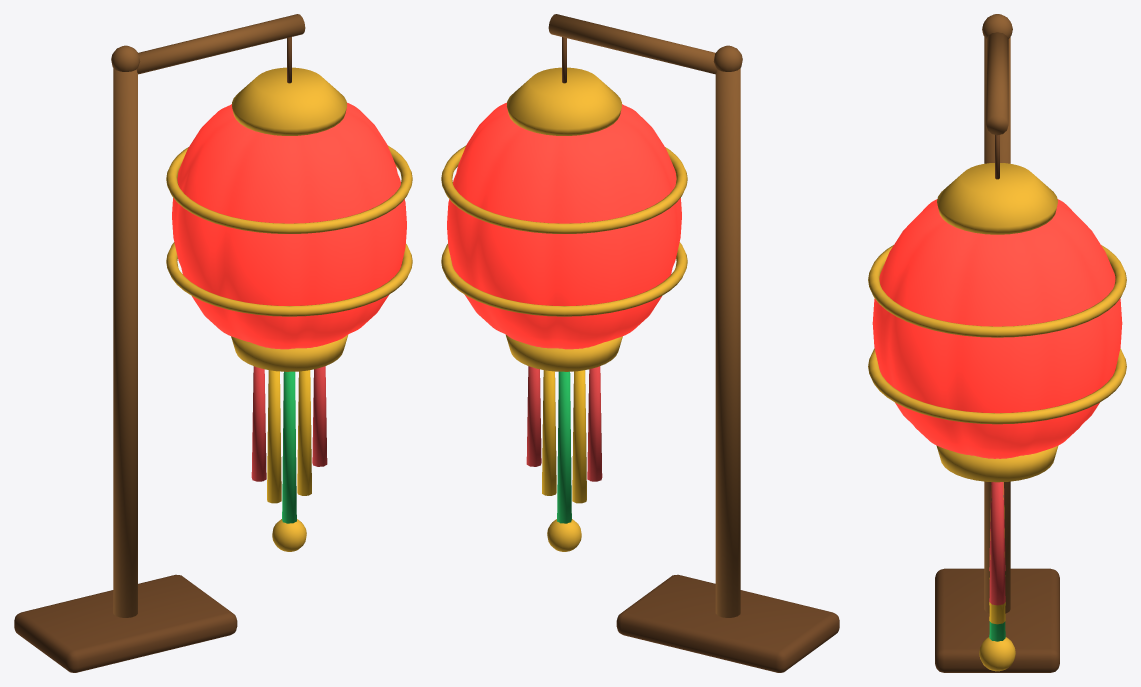
File: d-lanna.glb
3 renders of one model, left to right at view 1: azimuth 30°, elevation 25°; view 2: azimuth 150°, elevation 25°; view 3: azimuth 270°, elevation 25°, orthographic. The views are drawn at different scales.
Visible parts, largest first — view 1: d-lanna; view 2: d-lanna; view 3: d-lanna.
Part boxes in pixels (<box>): d-lanna: <box>14,14,412,672</box>; d-lanna: <box>441,14,839,672</box>; d-lanna: <box>868,14,1126,672</box>.
Bounding box in the file's own units: 0.1266 × 0.2 × 0.076.
